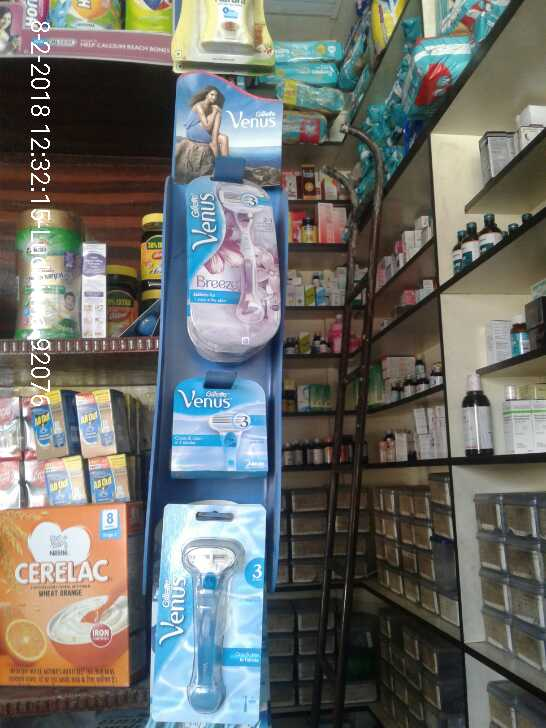venus: (154, 500, 262, 718), (181, 173, 282, 357), (170, 369, 273, 484)
